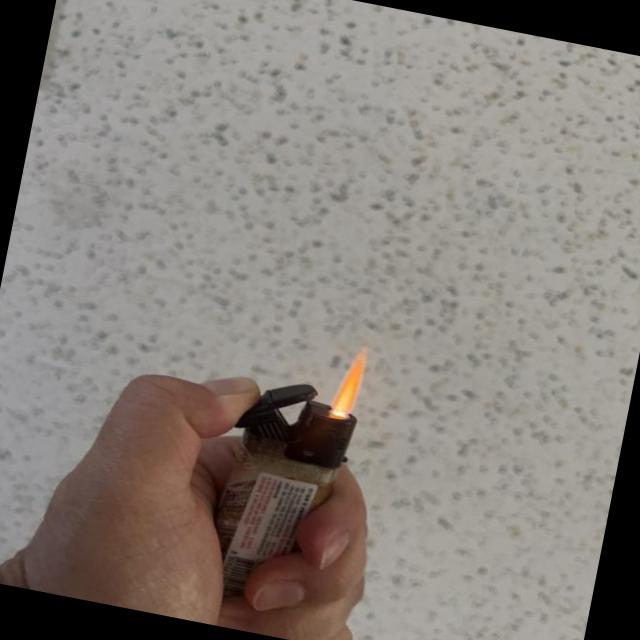Fire: (329, 351, 370, 418)
